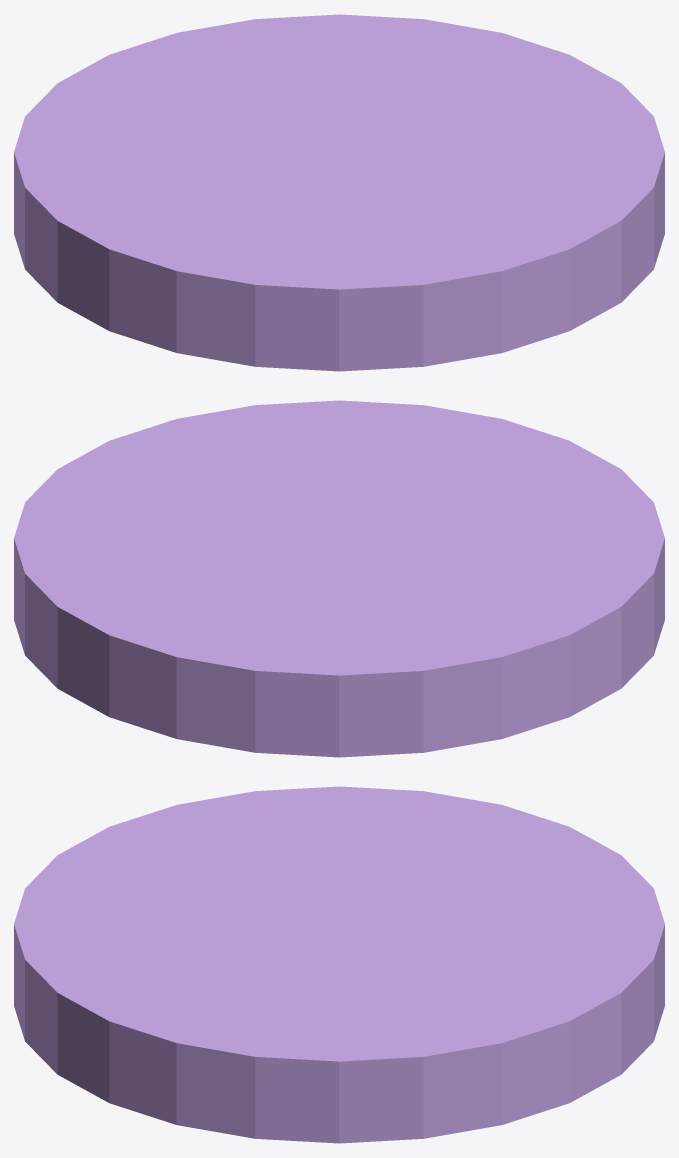
Rendered from plattform_kreisend.glb.
3 renders of one model, top to bottom at view 1: azimuth 30°, elevation 25°; view 2: azimuth 150°, elevation 25°; view 3: azimuth 270°, elevation 25°, orthographic.
Parts seen in each view (by area): view 1: PlattformKreisend; view 2: PlattformKreisend; view 3: PlattformKreisend.
Boxes of the visible parts, bbox=[...] form: PlattformKreisend: bbox=[14, 14, 664, 371]; PlattformKreisend: bbox=[14, 400, 664, 757]; PlattformKreisend: bbox=[14, 786, 664, 1143].
Size of the model in its own units: 3.6 by 0.5 by 3.6.
